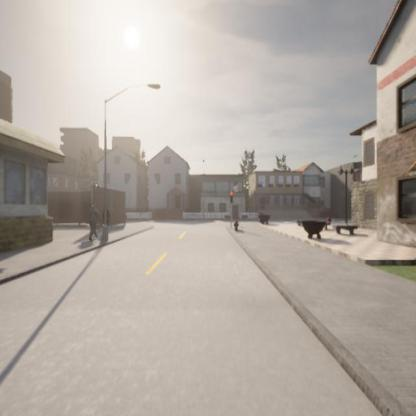person: (86, 202, 101, 242)
